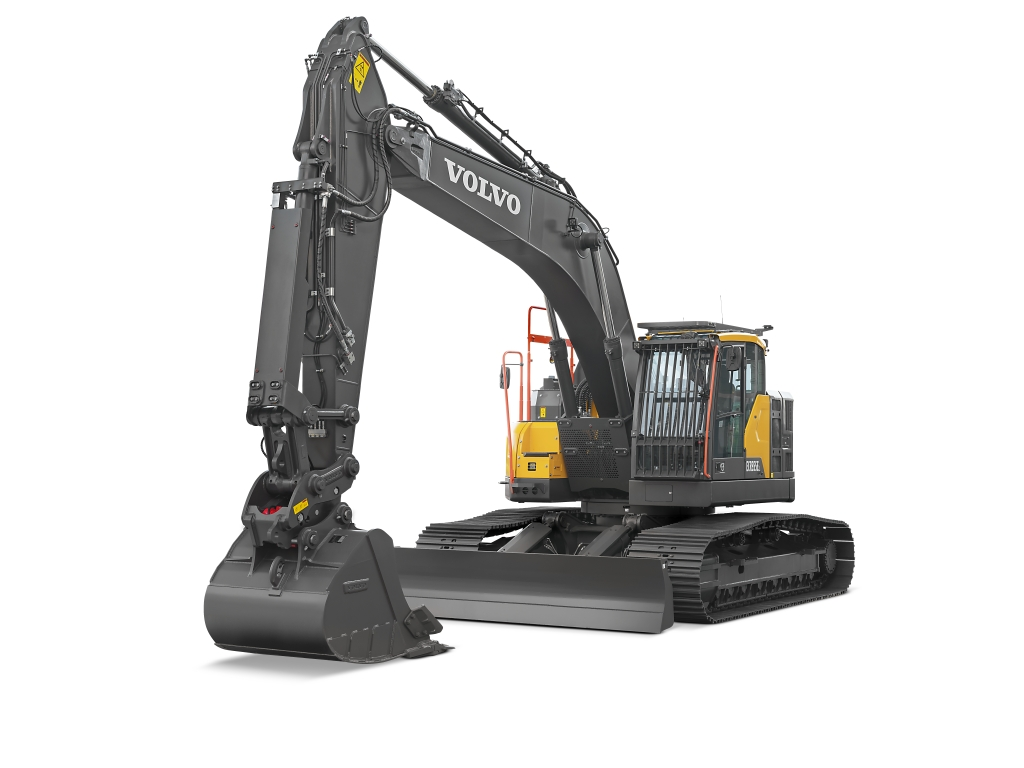excavator: (196, 19, 860, 677)
